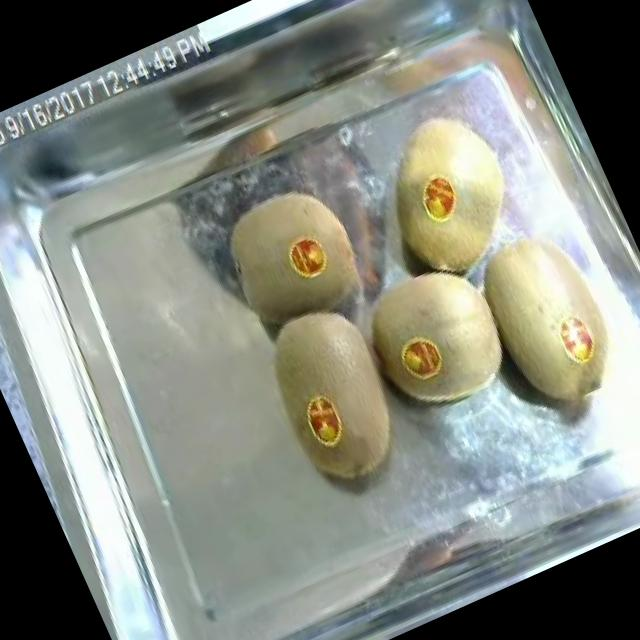Fruit: (445, 197, 640, 427), (352, 84, 550, 304), (244, 283, 432, 506), (342, 236, 531, 437)
